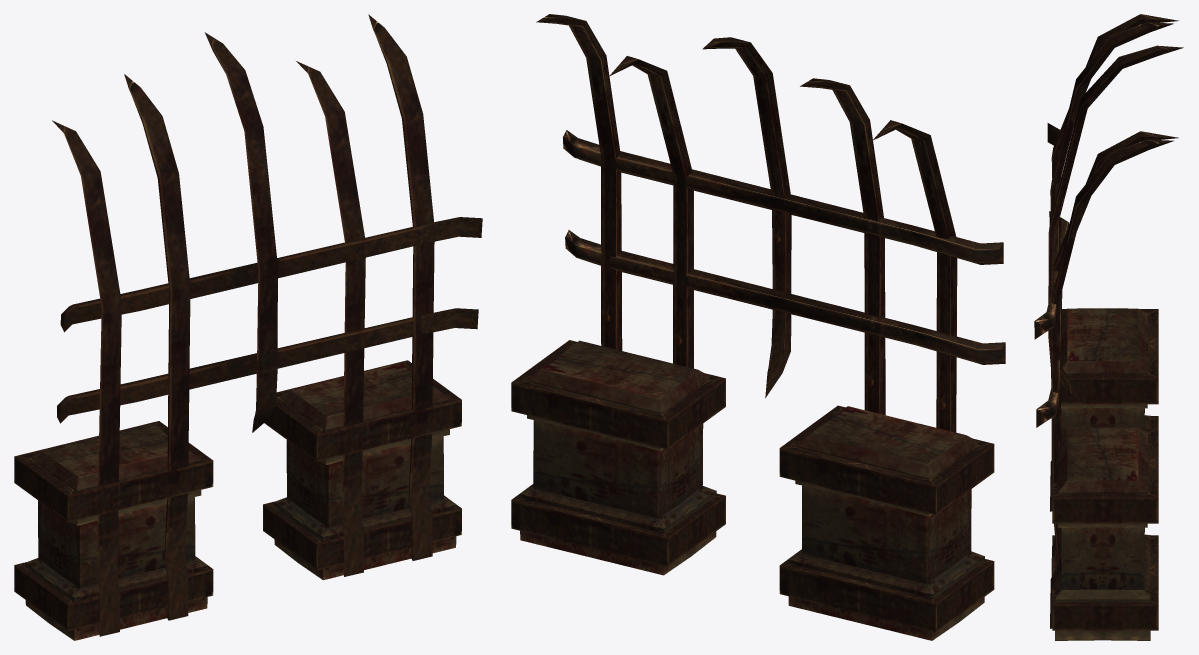
File: blsd_tiejiazi_01.FBX
3 renders of one model, left to right at view 1: azimuth 30°, elevation 25°; view 2: azimuth 150°, elevation 25°; view 3: azimuth 270°, elevation 25°, orthographic. The views are drawn at different scales.
Visible parts, largest first — view 1: blsd_tiejiazi_01; view 2: blsd_tiejiazi_01; view 3: blsd_tiejiazi_01.
Part boxes in pixels (x1,y1,x2,y2): blsd_tiejiazi_01: (14,14,482,640); blsd_tiejiazi_01: (511,14,1005,640); blsd_tiejiazi_01: (1034,14,1183,640).
Bounding box in the file's own units: 13.23 × 4.22 × 15.65.
